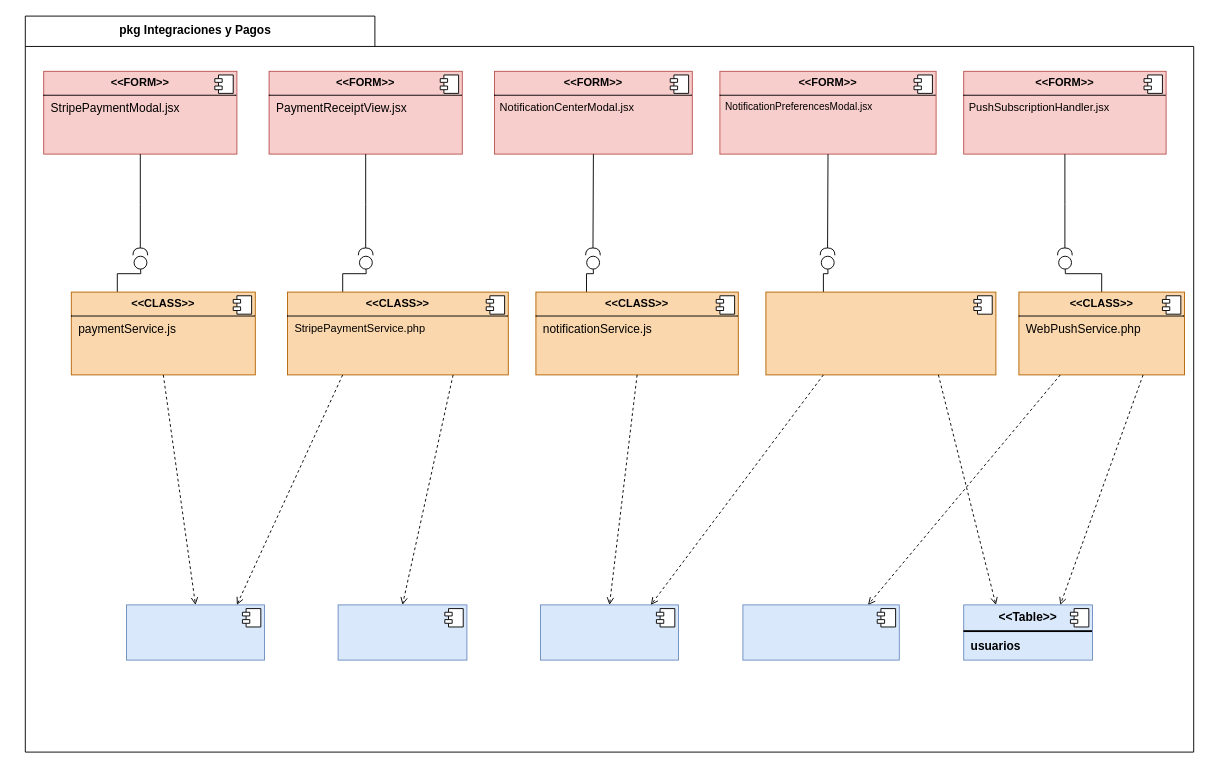
Image size: 1210x768. Some labels were removed from this diagram. The shapes that lost their labels are listed below. From the top down, each one's box as (x1, y1, x2, y2) in pixels, then its label:
(765, 291, 996, 375): <<CLASS>> NotificationDispatcherService.php
(126, 604, 264, 660): <<Table>> pagos
(337, 604, 467, 660): <<Table>> citas
(540, 604, 678, 660): <<Table>> notificaciones
(742, 604, 899, 660): <<Table>> push_suscripciones
